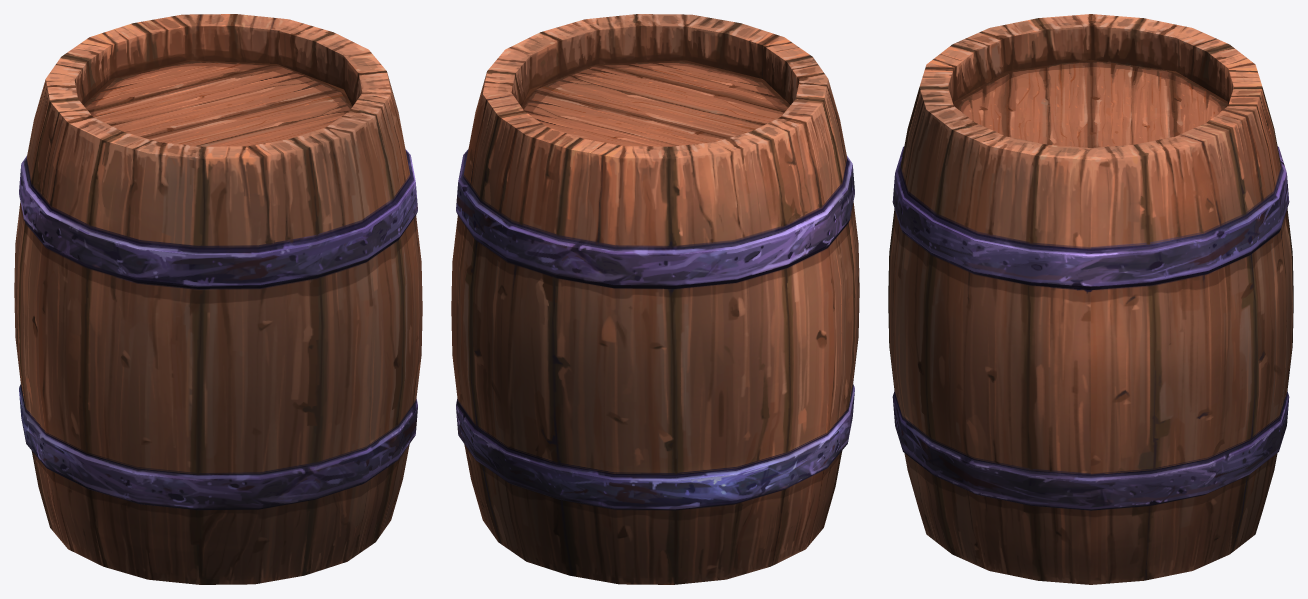
Rendered from uploads_files_798684_Barrel.fbx.
3 renders of one model, left to right at view 1: azimuth 30°, elevation 25°; view 2: azimuth 150°, elevation 25°; view 3: azimuth 270°, elevation 25°, orthographic.
Parts seen in each view (by area): view 1: polySurface721; view 2: polySurface721; view 3: polySurface721.
Boxes of the visible parts, <box> form: polySurface721: <box>14,14,422,584</box>; polySurface721: <box>451,14,859,584</box>; polySurface721: <box>888,14,1293,584</box>.
Size of the model in its own units: 0.976 by 1.12 by 0.9676.
1 material, 1 textured.
